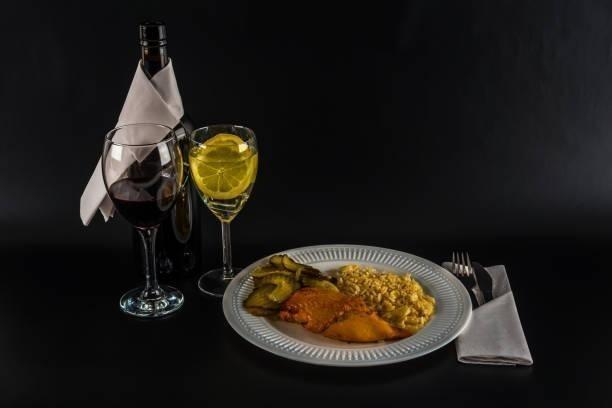glass-wine: (101, 122, 185, 317), (187, 122, 259, 298)
